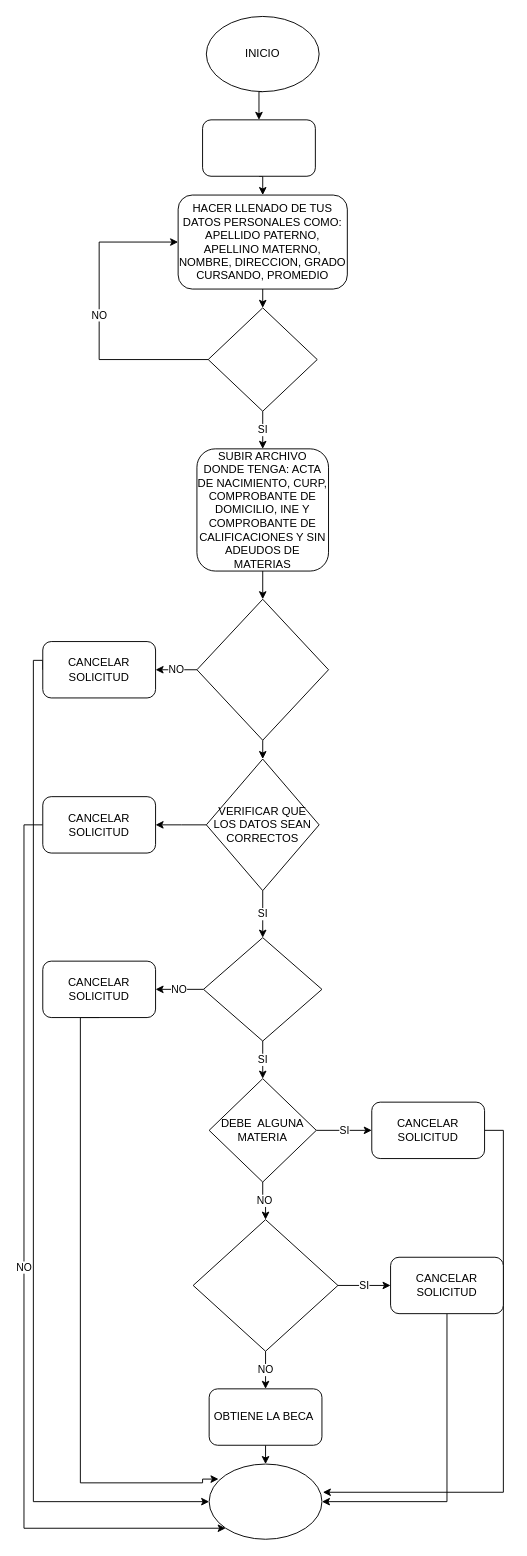
Some shapes in this 527 by 1556 pixel diagram are drawn without their labels. The centre of each missing label's shape, as x and y in pixels:
FIN: (265,1501)
INGRESAR A LA CONVOCATORIA: (258,147)
LOS DATOS COINCIDEN CON LOS DOCUMENTOS: (262,669)
LOS DATOS SON CORRECTOS: (262,359)
PROMEDIO>9: (262,989)
VERIFICAR EN EL SISTEMA QUE NO SEA BENEFICIARIO DE ALGUN OTRA BECA: (265,1285)
